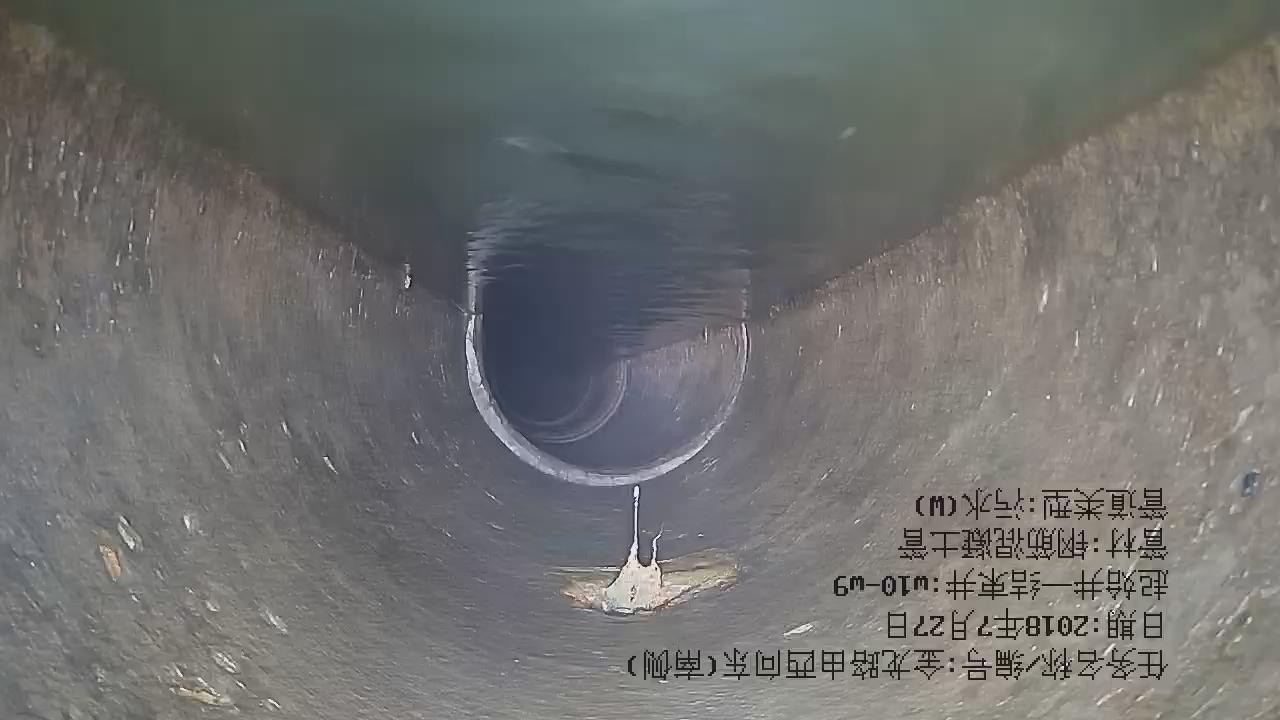CKTJ: (462, 312, 751, 484)
PL: (566, 564, 736, 615)
